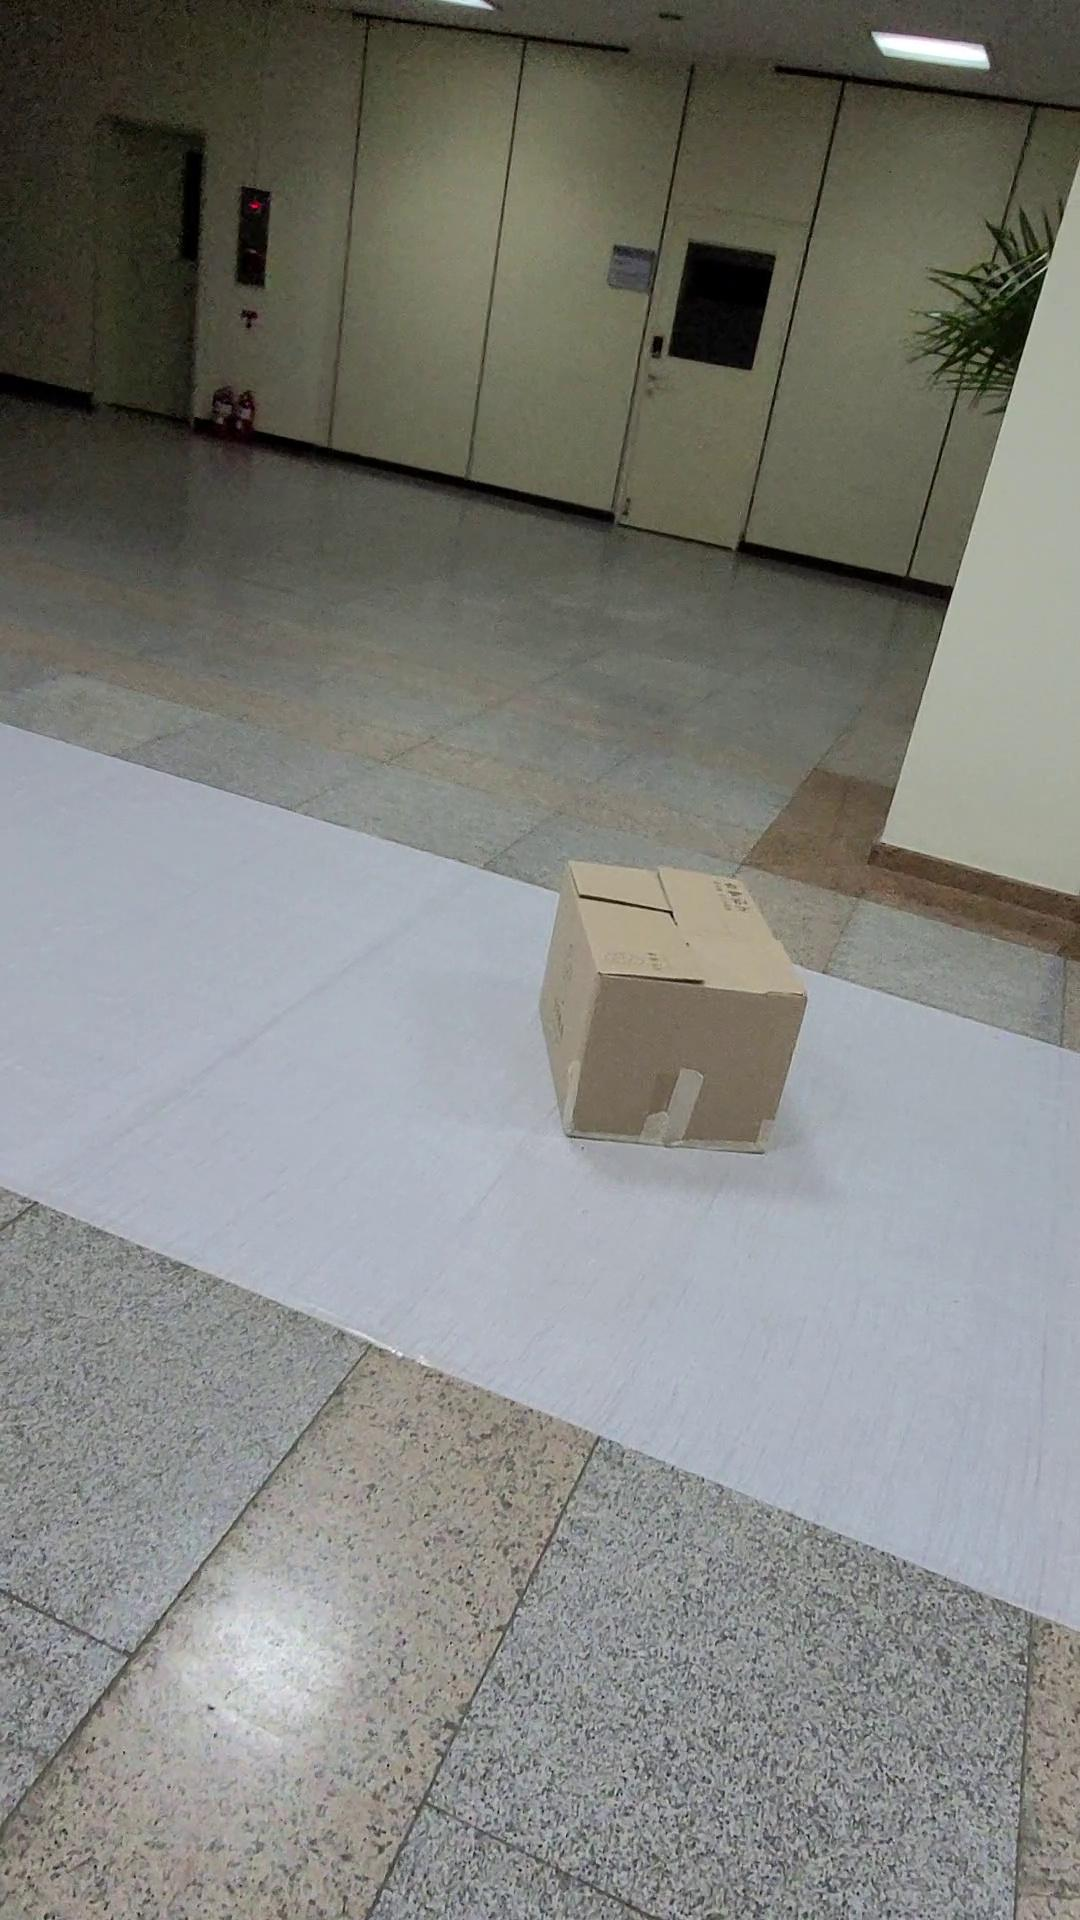Box: (477, 829, 849, 1182)
